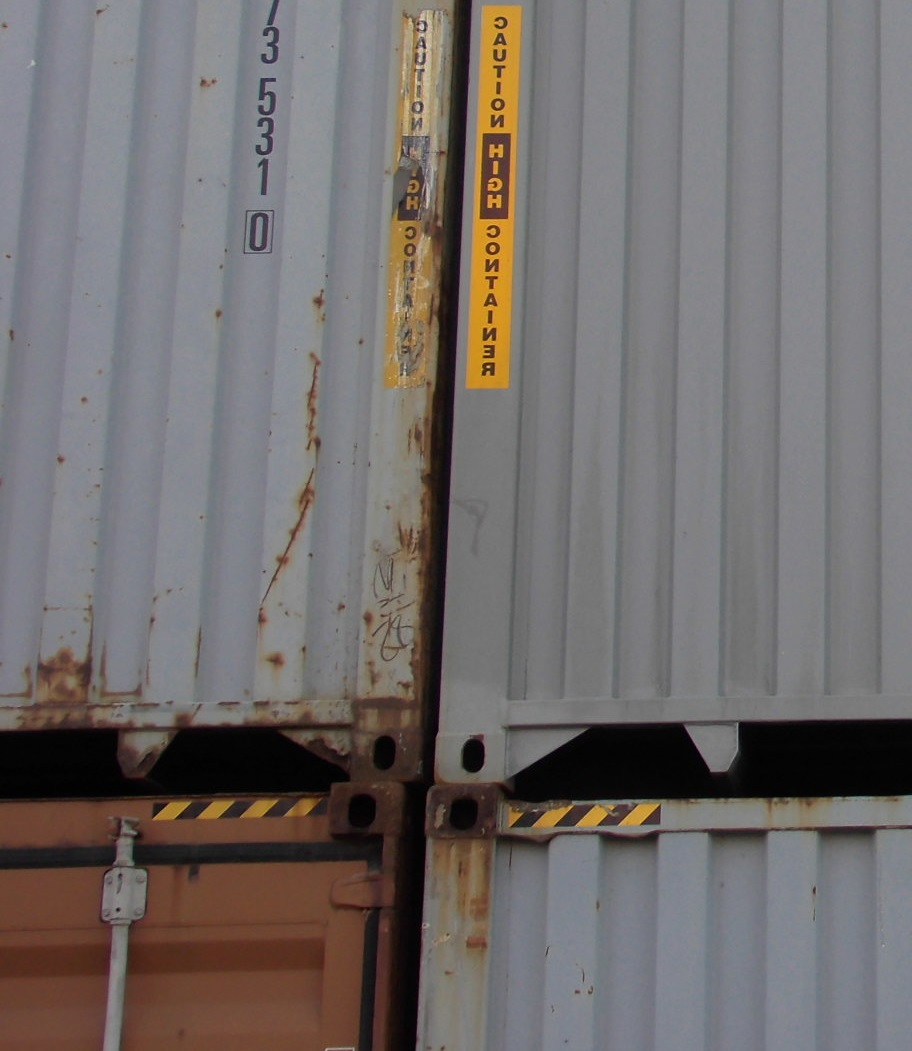container_no_door: (433, 3, 910, 780), (1, 5, 432, 786)
